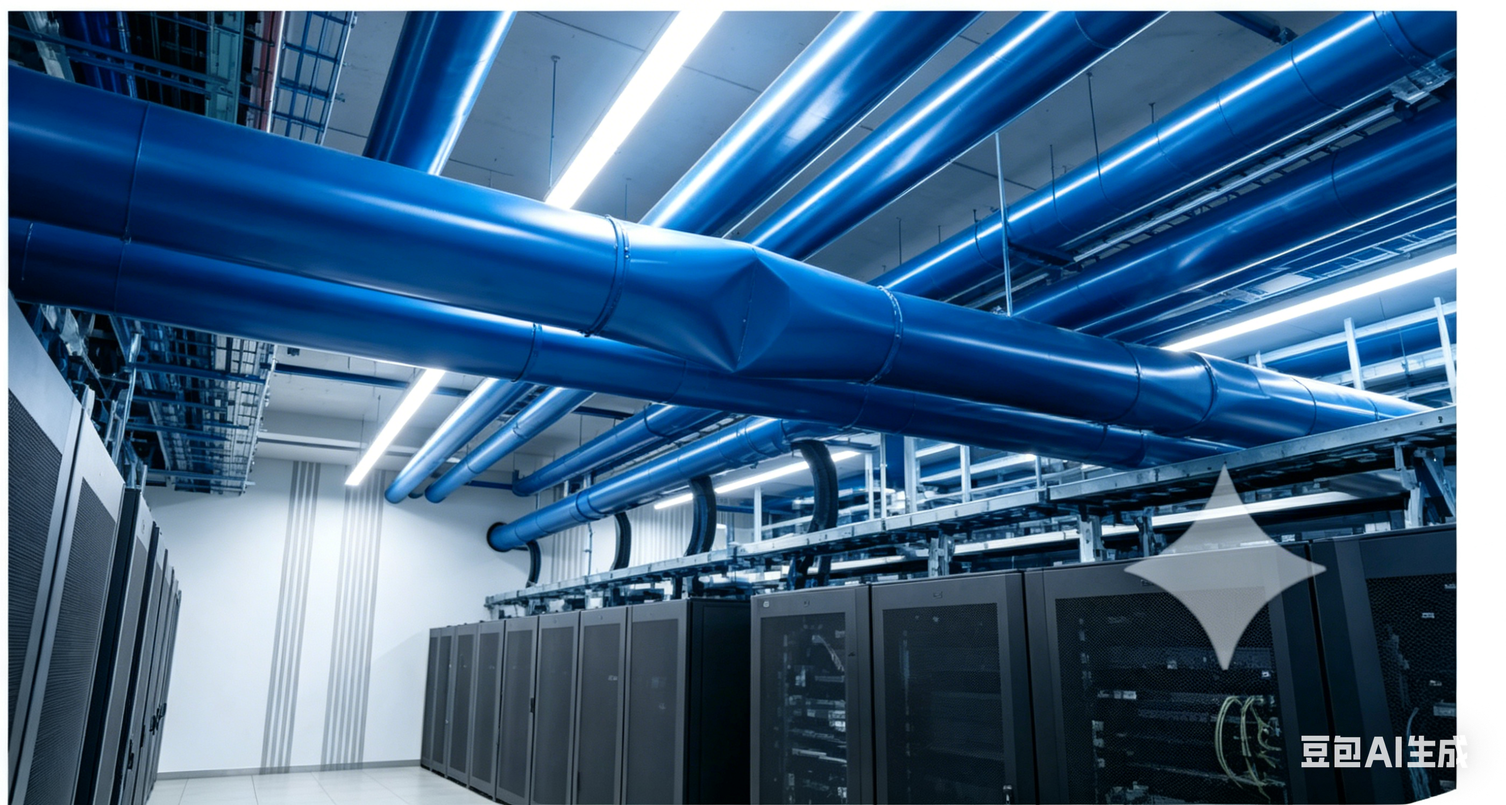Leakage: (679, 238, 815, 375)
